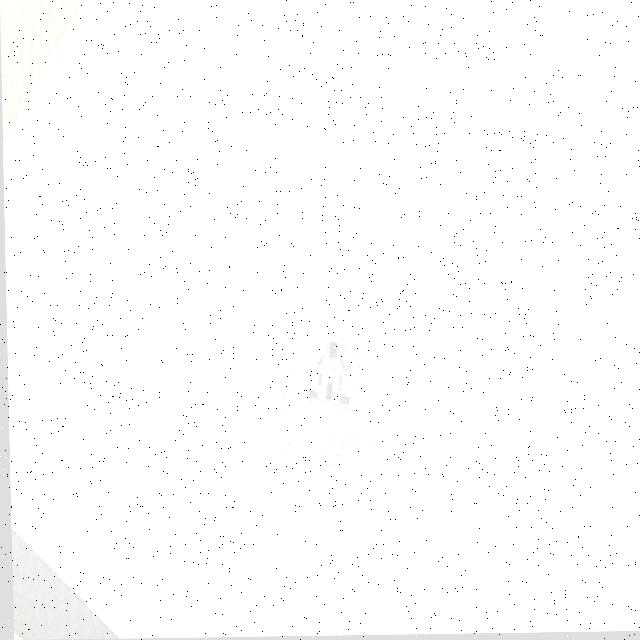adapter: (278, 323, 373, 469)
